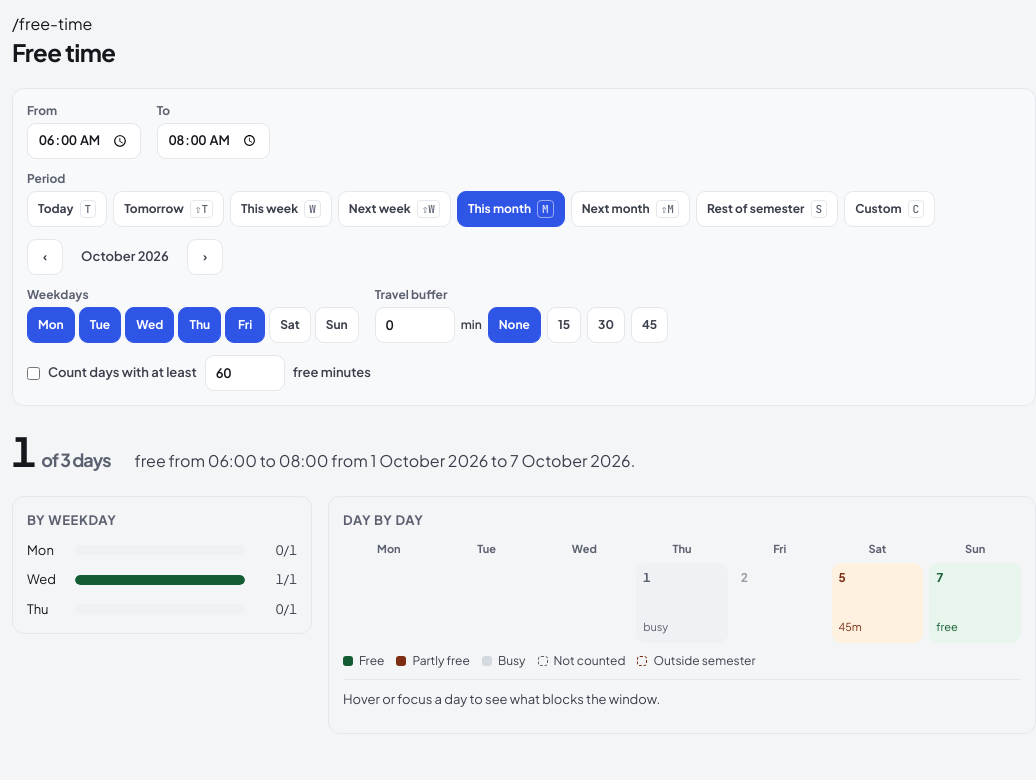
Test: FreeTimePage › presets fill the input and request that buffer
This screenshot has width=1036, height=780.
Expected: the element with test id "free-big" is shown, [12,426,110,476]
Click the button "30". click: x=606, y=325
box: [587,307,625,343]
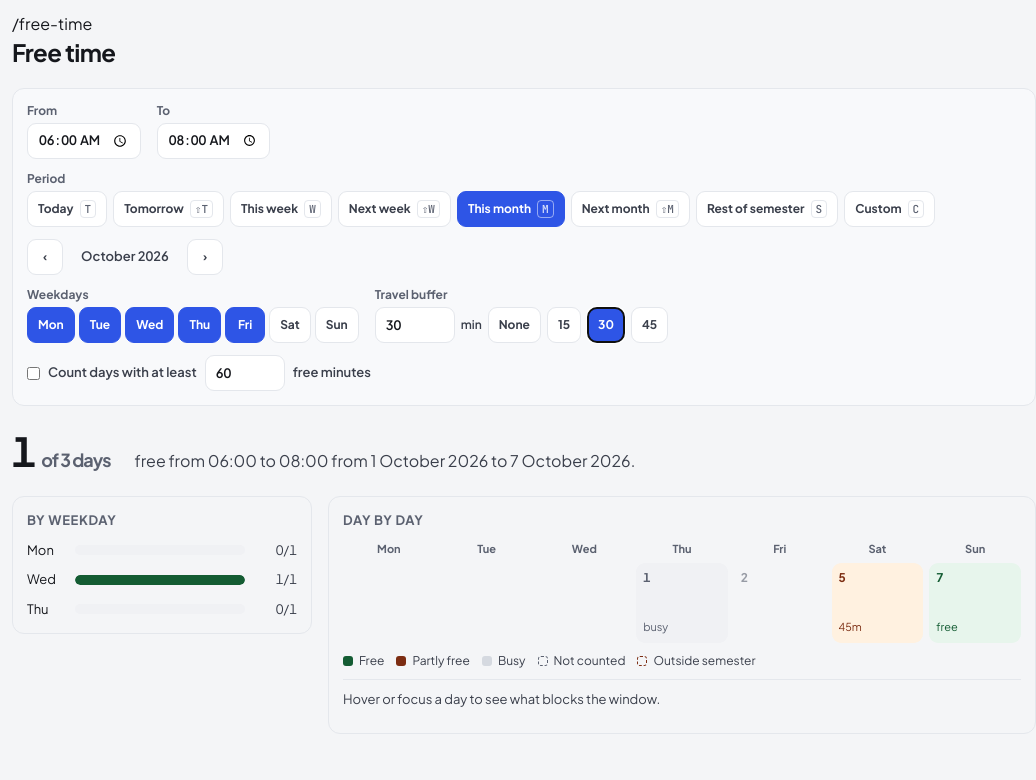
Expected: the number field named "Travel buffer" holds "30", [375,307,455,343]
Click the button "None". click: x=514, y=325
box: [488,307,541,343]
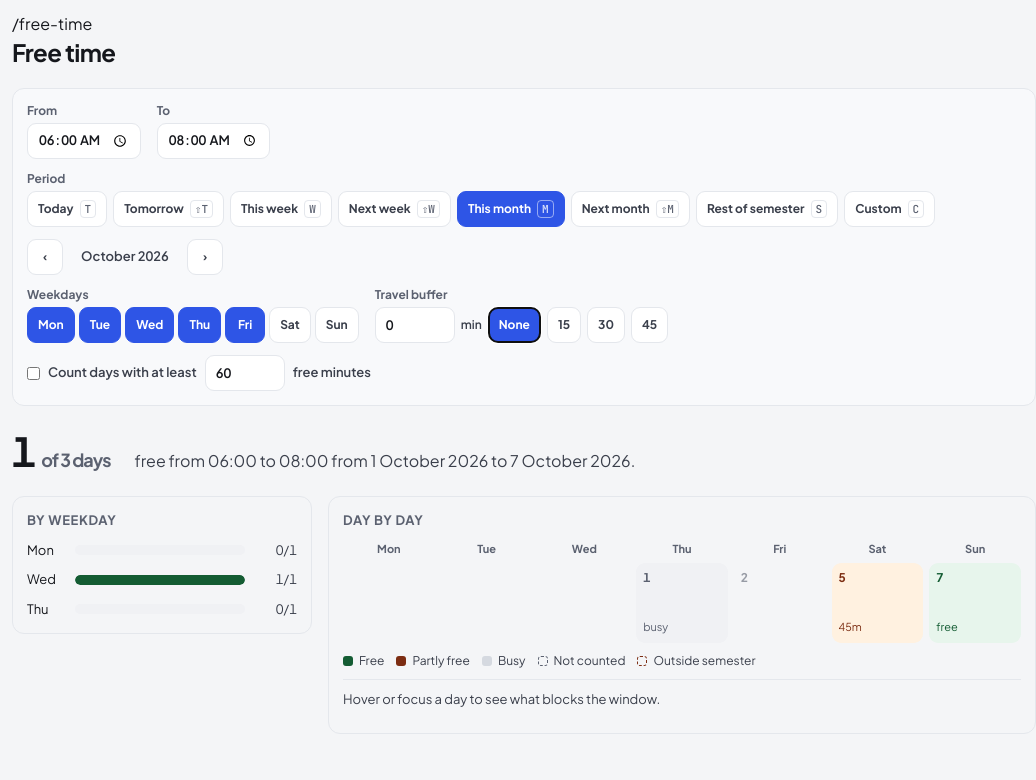
Expected: the number field named "Travel buffer" holds "0", [375,307,455,343]
